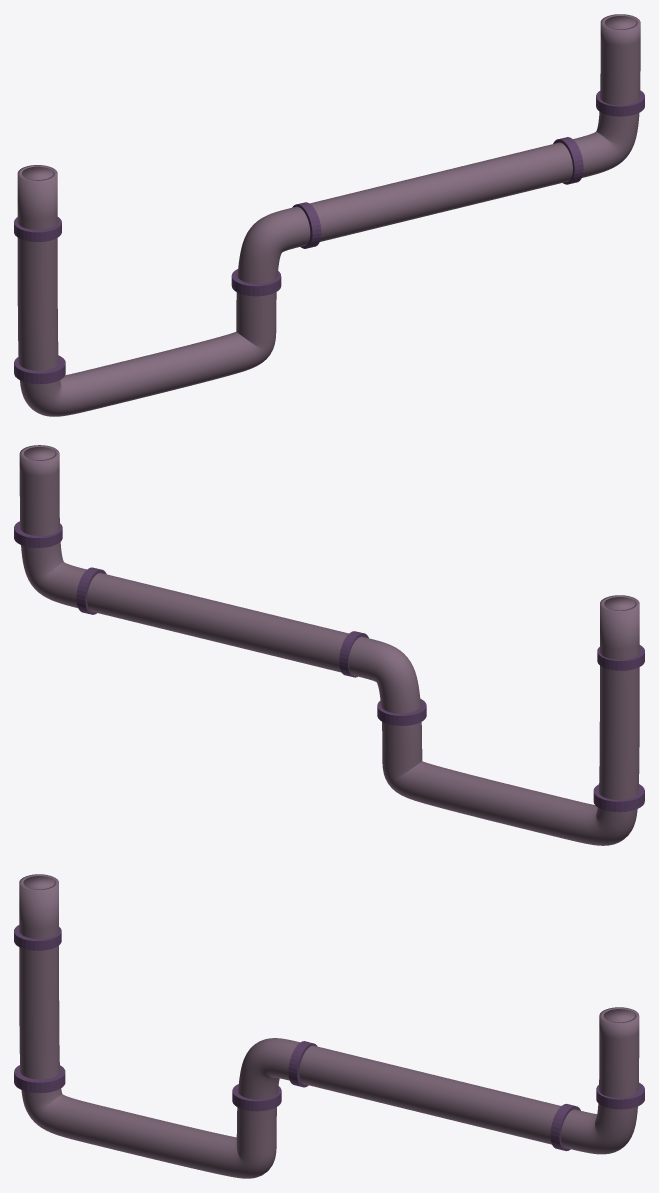
File: pipe4.fbx
3 renders of one model, top to bottom at view 1: azimuth 30°, elevation 25°; view 2: azimuth 150°, elevation 25°; view 3: azimuth 330°, elevation 25°, orthographic.
Visible parts, largest first — view 1: NURBSパス, 円柱.004, 円柱.003, 円柱.005, 円柱, 円柱.011, 円柱.010; view 2: NURBSパス, 円柱.004, 円柱.003, 円柱, 円柱.005, 円柱.011; view 3: NURBSパス, 円柱.004, 円柱.003, 円柱, 円柱.005, 円柱.011, 円柱.010.
Boxes of the visible parts, x1,y1,x2,y2 form: NURBSパス: [17, 14, 640, 416]; 円柱.004: [14, 355, 65, 384]; 円柱.003: [231, 269, 281, 296]; 円柱.005: [14, 217, 61, 241]; 円柱: [596, 90, 644, 116]; 円柱.011: [553, 137, 583, 184]; 円柱.010: [292, 202, 321, 248]; NURBSパス: [19, 445, 639, 845]; 円柱.004: [593, 784, 644, 812]; 円柱.003: [377, 699, 426, 725]; 円柱: [14, 521, 62, 547]; 円柱.005: [597, 645, 644, 670]; 円柱.011: [76, 567, 106, 614]; NURBSパス: [19, 874, 639, 1178]; 円柱.004: [14, 1065, 65, 1092]; 円柱.003: [232, 1084, 281, 1111]; 円柱: [596, 1082, 644, 1109]; 円柱.005: [14, 925, 61, 950]; 円柱.011: [550, 1103, 580, 1151]; 円柱.010: [288, 1041, 317, 1087].
Size of the model in its own units: 8.59 by 3.36 by 0.6345.
